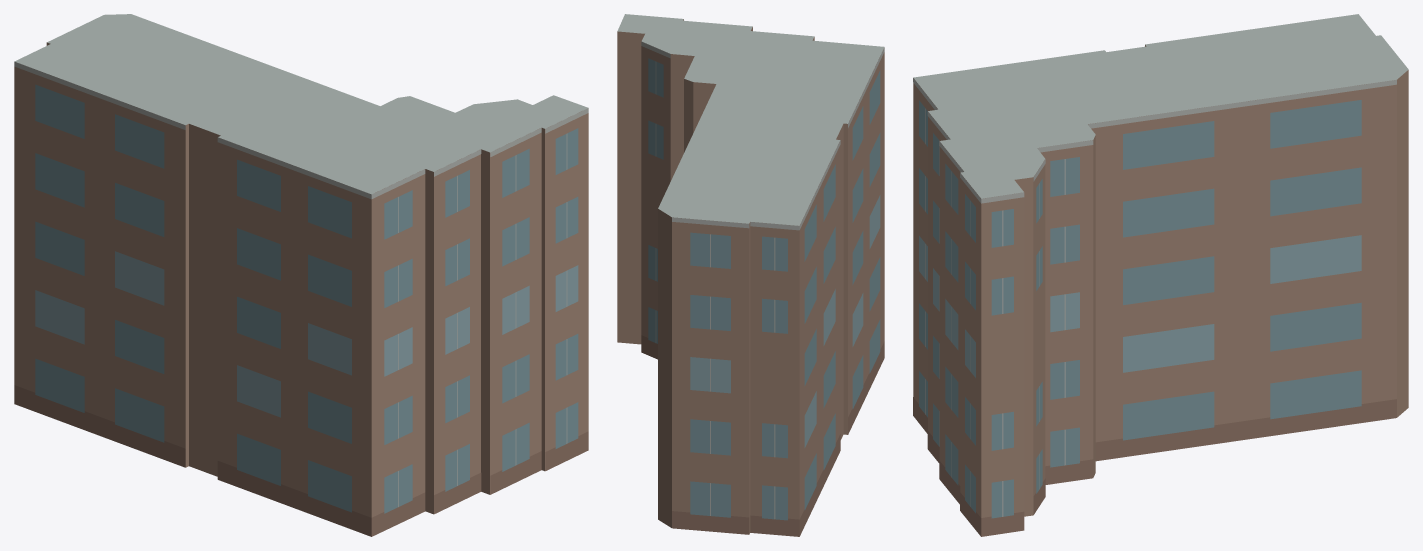
File: survey-upis-32763595.glb
3 renders of one model, left to right at view 1: azimuth 30°, elevation 25°; view 2: azimuth 150°, elevation 25°; view 3: azimuth 270°, elevation 25°, orthographic. The views are drawn at different scales.
Visible parts, largest first — view 1: survey-upis-32763595.tmp; view 2: survey-upis-32763595.tmp; view 3: survey-upis-32763595.tmp.
Part boxes in pixels (bbox=[...]): survey-upis-32763595.tmp: bbox=[14, 14, 588, 536]; survey-upis-32763595.tmp: bbox=[617, 14, 884, 536]; survey-upis-32763595.tmp: bbox=[913, 14, 1408, 536].
Bounding box in the file's own units: 19.68 × 16.8 × 22.32.
